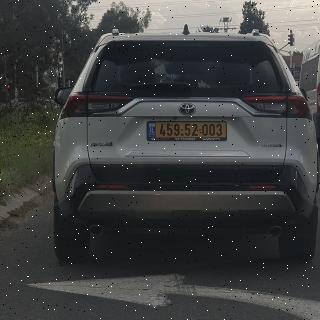LicensePlate: (157, 123, 226, 137)
